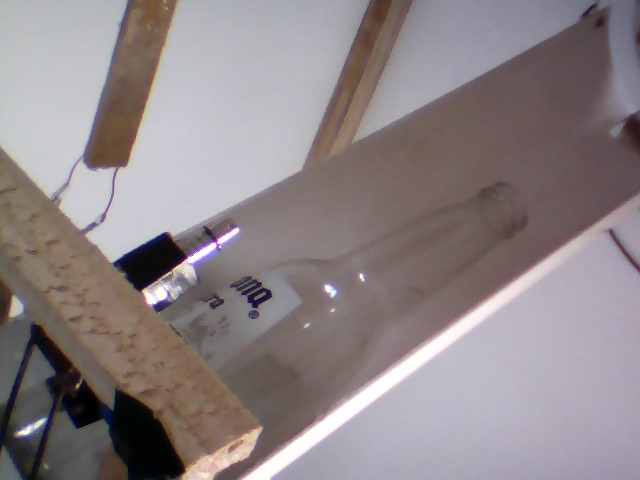vidrio: (169, 176, 547, 425)
